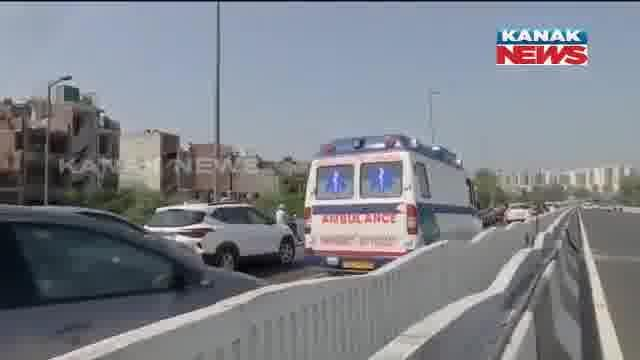AMBULANCE: (297, 127, 488, 278)
